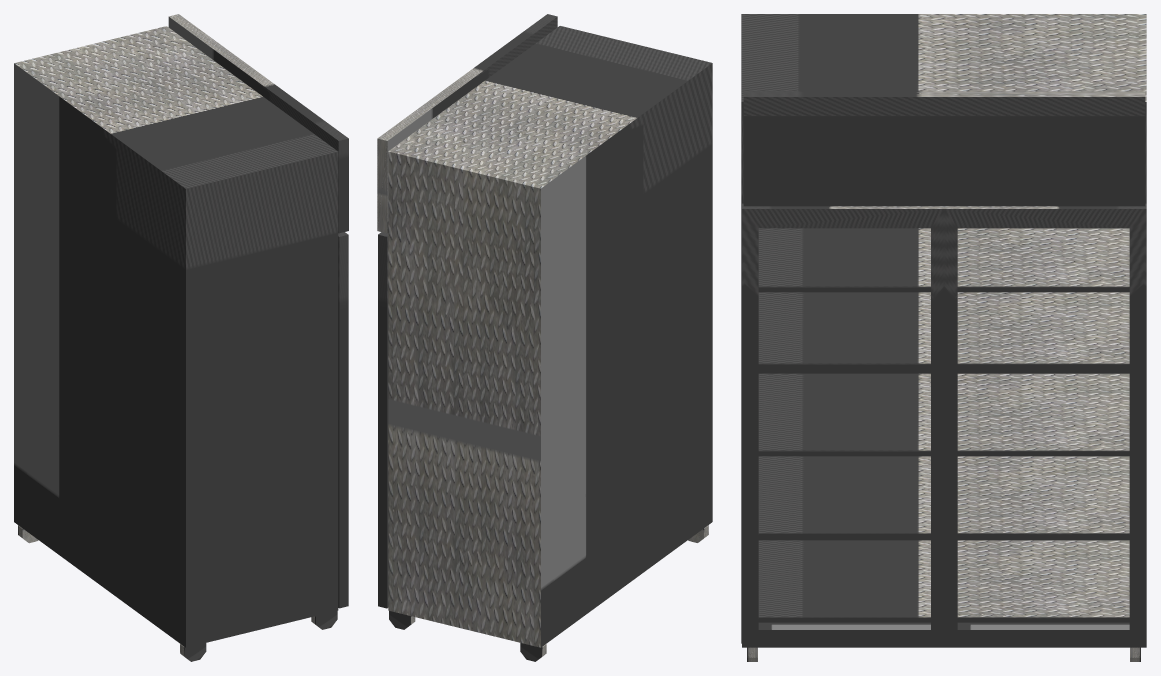
Rendered from Fridge.fbx.
3 views of the same model, side by side, from view 1: azimuth 30°, elevation 25°; view 2: azimuth 150°, elevation 25°; view 3: azimuth 270°, elevation 25° (orthographic). The views are drawn at different scales.
Parts seen in each view (by area): view 1: fridge, sign, Door_R; view 2: fridge, sign, Door_L; view 3: sign, fridge, plate4, plate5, plate6, plate3, plate, Door_L, Door_R.
Boxes of the visible parts, x1=… form: fridge: x1=14, y1=26, x2=338, y2=647; sign: x1=168, y1=14, x2=348, y2=233; Door_R: x1=338, y1=232, x2=348, y2=608; fridge: x1=388, y1=26, x2=712, y2=647; sign: x1=377, y1=14, x2=557, y2=233; Door_L: x1=378, y1=232, x2=388, y2=608; sign: x1=743, y1=91, x2=1145, y2=206; fridge: x1=741, y1=14, x2=1146, y2=643; plate4: x1=758, y1=373, x2=1129, y2=456; plate5: x1=758, y1=456, x2=1129, y2=538; plate6: x1=758, y1=540, x2=1129, y2=622; plate3: x1=758, y1=292, x2=1129, y2=369; plate: x1=758, y1=228, x2=1129, y2=292; Door_L: x1=944, y1=203, x2=1146, y2=647; Door_R: x1=742, y1=203, x2=944, y2=647.
Bounding box in the file's own units: 0.8492 × 2.41 × 1.54.
